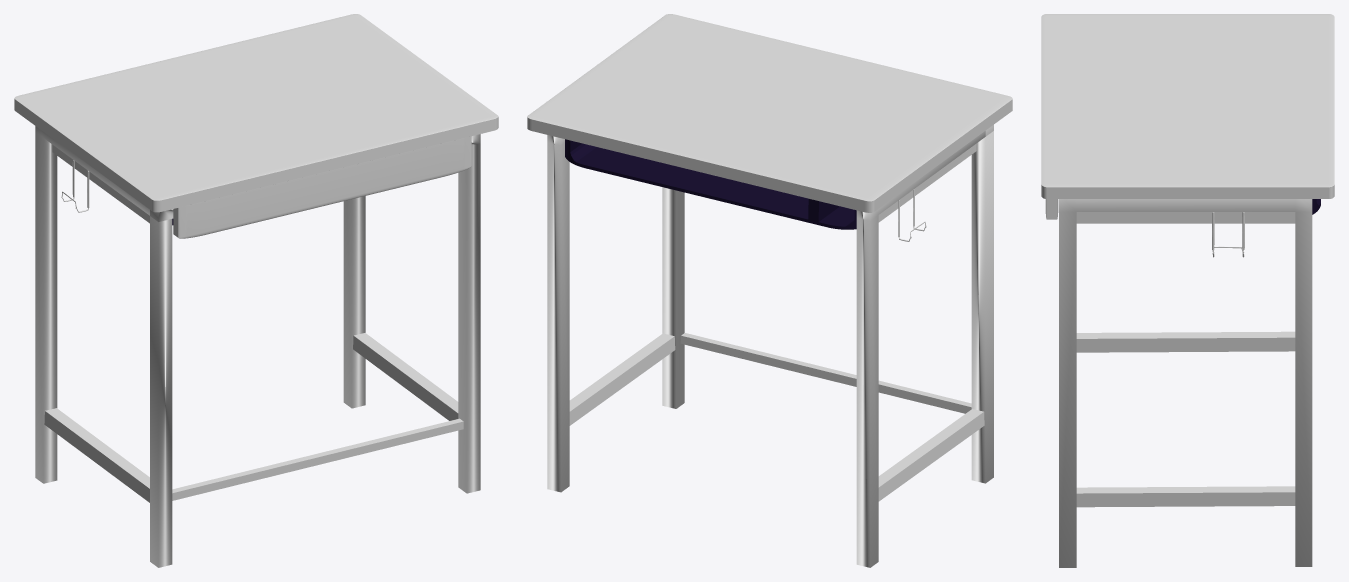
File: mesa2.fbx
The picture shows the model from 3 angles, left to right: view 1: azimuth 30°, elevation 25°; view 2: azimuth 150°, elevation 25°; view 3: azimuth 270°, elevation 25°; orthographic projection. The views are drawn at different scales.
Visible parts, largest first — view 1: DeskTop, Frame; view 2: DeskTop, Frame; view 3: DeskTop, Frame.
Part boxes in pixels (x1=…): DeskTop: x1=14, y1=14, x2=498, y2=212; Frame: x1=35, y1=126, x2=480, y2=567; DeskTop: x1=527, y1=14, x2=1012, y2=212; Frame: x1=547, y1=125, x2=993, y2=567; DeskTop: x1=1041, y1=14, x2=1334, y2=198; Frame: x1=1045, y1=199, x2=1320, y2=567.
Bounding box in the file's own units: 98.71 × 103 × 70.66.
